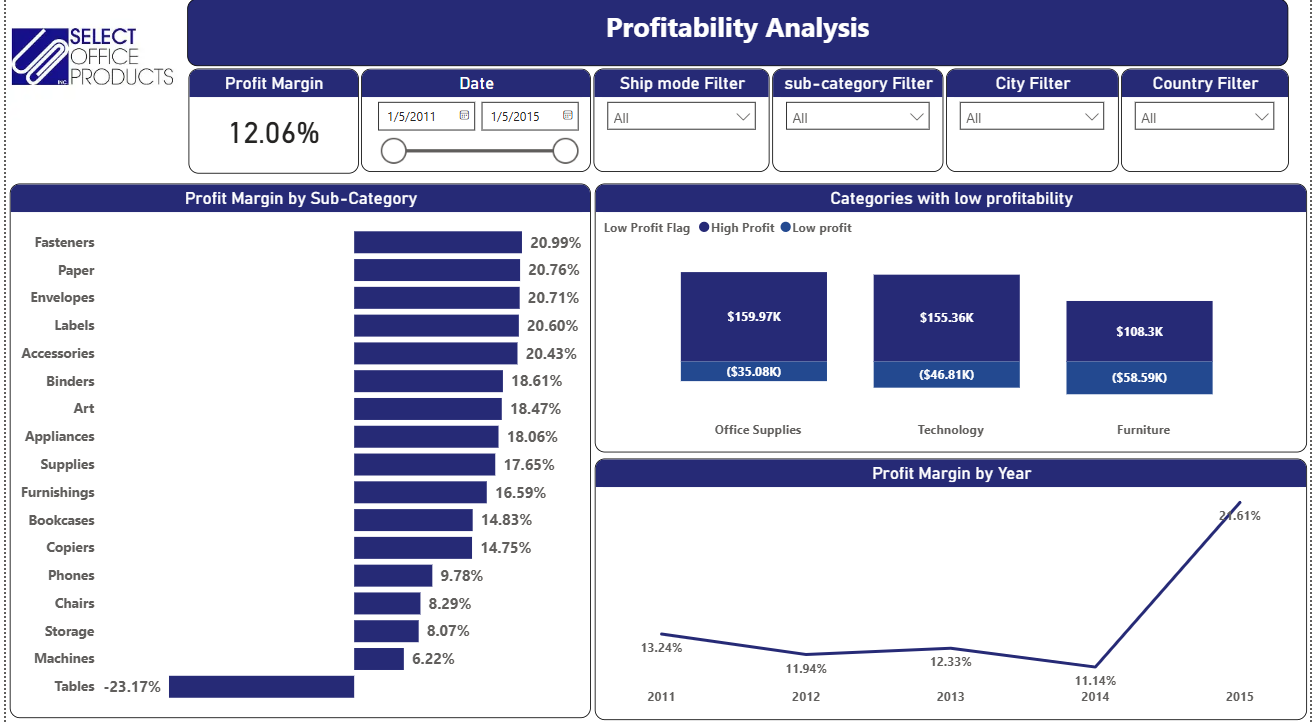

Layout of this report page (visuals, bound fields, positions):
{"tool":"powerbi","page":{"name":"Profitability Analysis","canvas":[1280,720],"ordinal":7},"visuals":[{"type":"textbox","box":[177.9,7.4,1081,66.3],"z":0},{"type":"image","box":[0,4.9,169.3,122.7],"z":1000},{"type":"slicer","title":"Country Filter","fields":{"Values":["Country.Country"]},"box":[1094.5,76.1,164.4,101.8],"z":2000},{"type":"slicer","title":"City Filter","fields":{"Values":["City.City"]},"box":[922.7,76.1,169.3,101.8],"z":3000},{"type":"slicer","title":"sub-category Filter","fields":{"Values":["Sub-Category.Sub-Category"]},"box":[752.2,76.1,168.1,101.8],"z":4000},{"type":"slicer","title":"Ship mode Filter","fields":{"Values":["Ship Mode.Ship Mode"]},"box":[576.7,76.1,173,101.8],"z":5000},{"type":"slicer","title":"Date","fields":{"Values":["Dim_date.Date"]},"box":[348.5,76.1,225.8,101.8],"z":6000},{"type":"card","title":"Profit Margin","fields":{"Values":["_Measures.Profit Margin"]},"box":[179.1,76.1,166.9,103.1],"z":7000},{"type":"barChart","fields":{"Category":["Sub-Category.Sub-Category"],"Y":["_Measures.Profit Margin"]},"box":[3.7,189,570.6,525.2],"z":8000},{"type":"columnChart","title":"Categories with low profitability","fields":{"Y":["_Measures.Total Profit"],"Series":["Order Details.Low Profit Flag"],"Category":["Category.Category"]},"box":[577.9,189,699.4,263.8],"z":9000},{"type":"lineChart","fields":{"Category":["Dim_date.Date.Variation.Date Hierarchy.Year","Dim_date.Date.Variation.Date Hierarchy.Quarter","Dim_date.Date.Variation.Date Hierarchy.Month","Dim_date.Date.Variation.Date Hierarchy.Day"],"Y":["_Measures.Profit Margin"]},"box":[577.9,458.9,699.4,256.4],"z":10000}]}

Visuals, with their boxes in screenshot pixels (x1, y1, x2, y2), scaled from the page's 1280x720 canvas onto the 1316x722 screenshot:
textbox: bbox=(183, 7, 1294, 74)
image: bbox=(0, 5, 174, 128)
"Country Filter" slicer: bbox=(1125, 76, 1294, 178)
"City Filter" slicer: bbox=(949, 76, 1123, 178)
"sub-category Filter" slicer: bbox=(773, 76, 946, 178)
"Ship mode Filter" slicer: bbox=(593, 76, 771, 178)
"Date" slicer: bbox=(358, 76, 590, 178)
"Profit Margin" card: bbox=(184, 76, 356, 180)
barChart - Sub-Category.Sub-Category x _Measures.Profit Margin: bbox=(4, 190, 590, 716)
"Categories with low profitability" columnChart: bbox=(594, 190, 1313, 454)
lineChart - Dim_date.Date.Variation.Date Hierarchy.Year x Dim_date.Date.Variation.Date Hierarchy.Quarter: bbox=(594, 460, 1313, 717)
